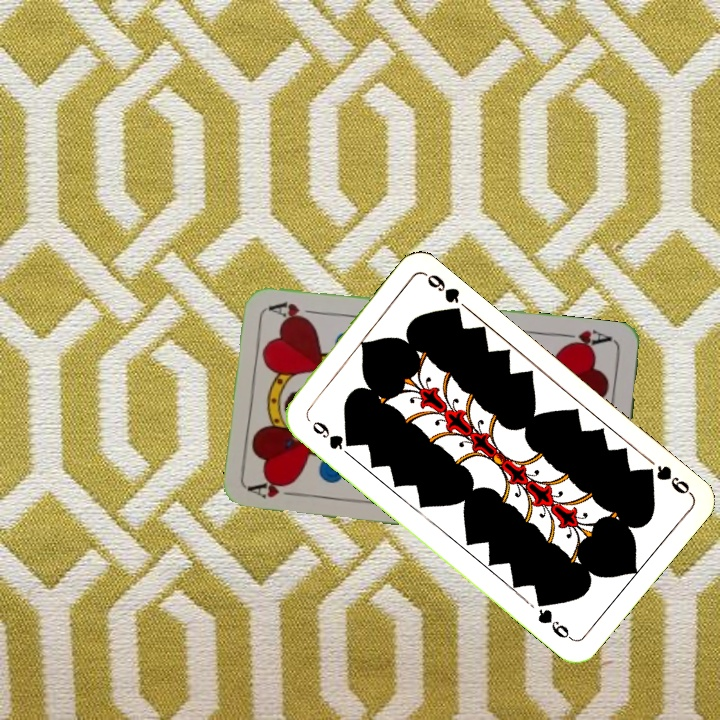G9: (638, 461, 694, 497), (308, 416, 356, 453)
HA: (246, 475, 306, 502), (556, 326, 615, 353)
